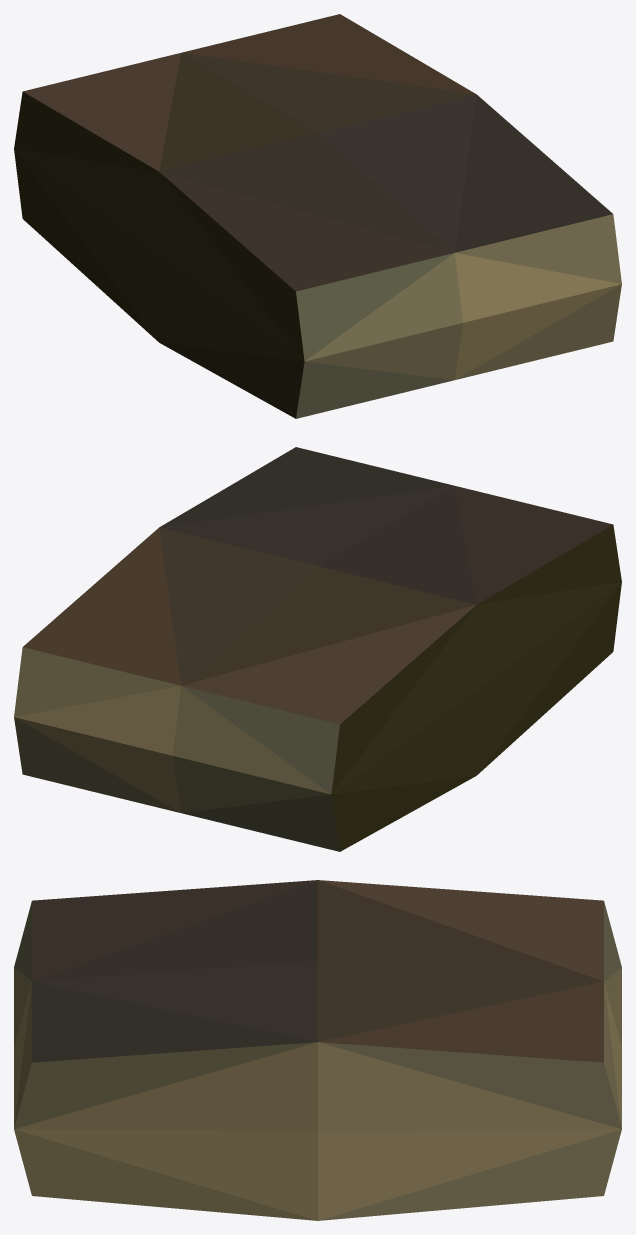
Rendered from prop_literature_book_5.fbx.
3 renders of one model, top to bottom at view 1: azimuth 30°, elevation 25°; view 2: azimuth 150°, elevation 25°; view 3: azimuth 270°, elevation 25°, orthographic. The views are drawn at different scales.
Parts seen in each view (by area): view 1: prop_literature_book_5; view 2: prop_literature_book_5; view 3: prop_literature_book_5.
Boxes of the visible parts, x1,y1,x2,y2 form: prop_literature_book_5: (14,14,621,418); prop_literature_book_5: (14,447,621,851); prop_literature_book_5: (14,880,621,1220).
Bounding box in the file's own units: 0.3895 × 0.2005 × 0.6175.
